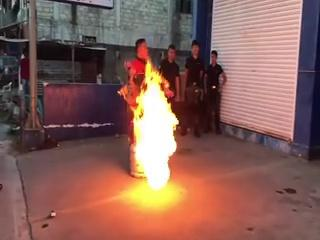Fire: (133, 58, 180, 192)
